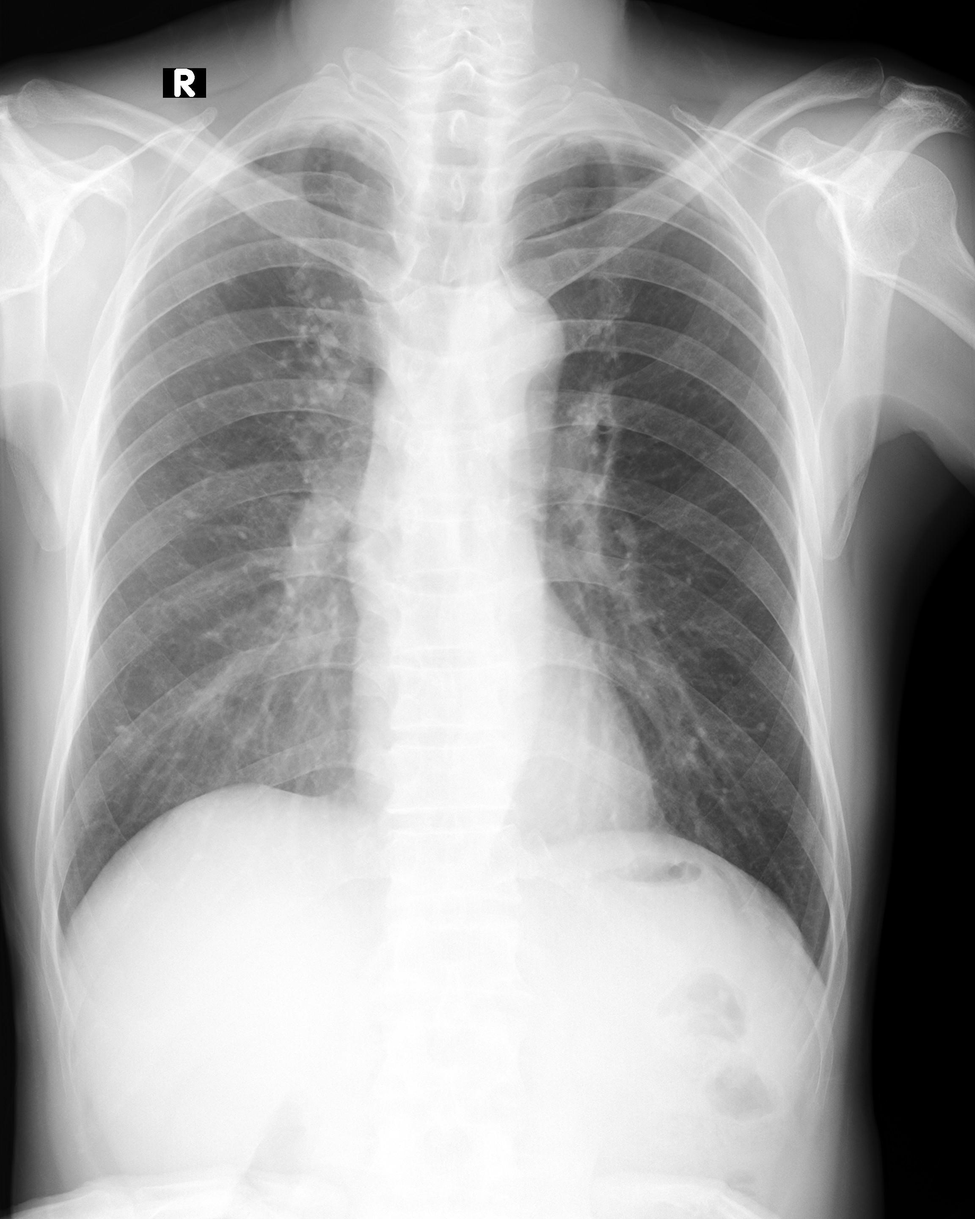Pulmonary fibrosis: (279, 283, 345, 445), (202, 198, 264, 293)
